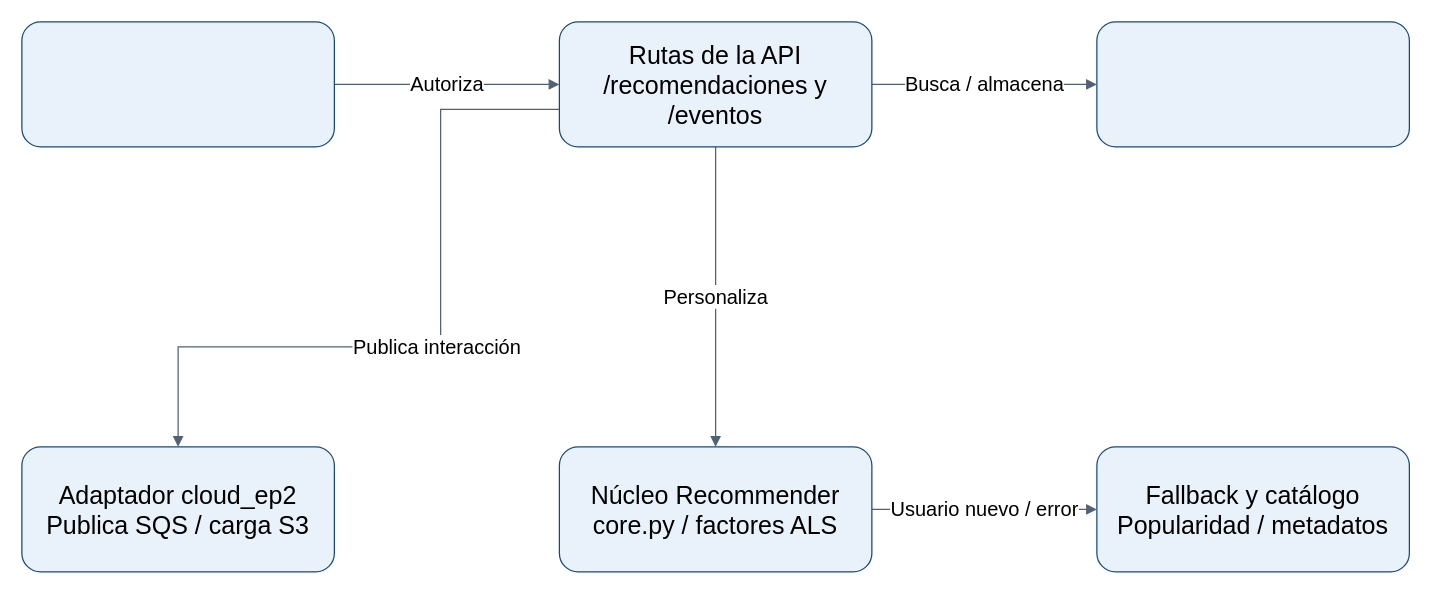
Image size: 1431x594. Some labels were removed from this diagram. Here are the shapes that lost their labels. From the top down, the box of each, then its label:
(21, 21, 334, 147): Autenticación verificar_token / Bearer
(1096, 21, 1409, 147): Caché local LRU Por tarea / bloqueo de acceso
